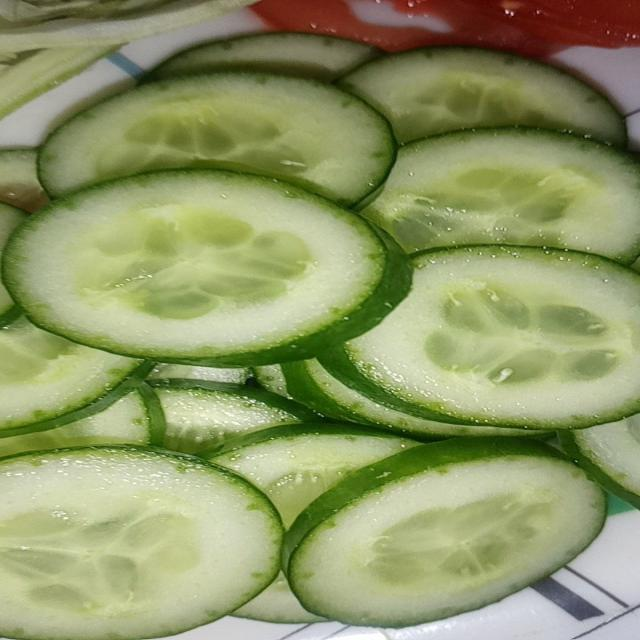cucumber sliced: (3, 169, 411, 366), (286, 438, 605, 626), (319, 246, 639, 428), (0, 446, 281, 639), (40, 72, 395, 203), (363, 128, 639, 262), (341, 47, 625, 145), (206, 424, 417, 526), (281, 359, 543, 439), (0, 318, 152, 437), (149, 379, 317, 453), (144, 33, 381, 81), (0, 390, 151, 456), (0, 45, 113, 117), (559, 415, 639, 508), (0, 149, 47, 211), (150, 363, 250, 384), (0, 202, 26, 253), (253, 364, 290, 397)
